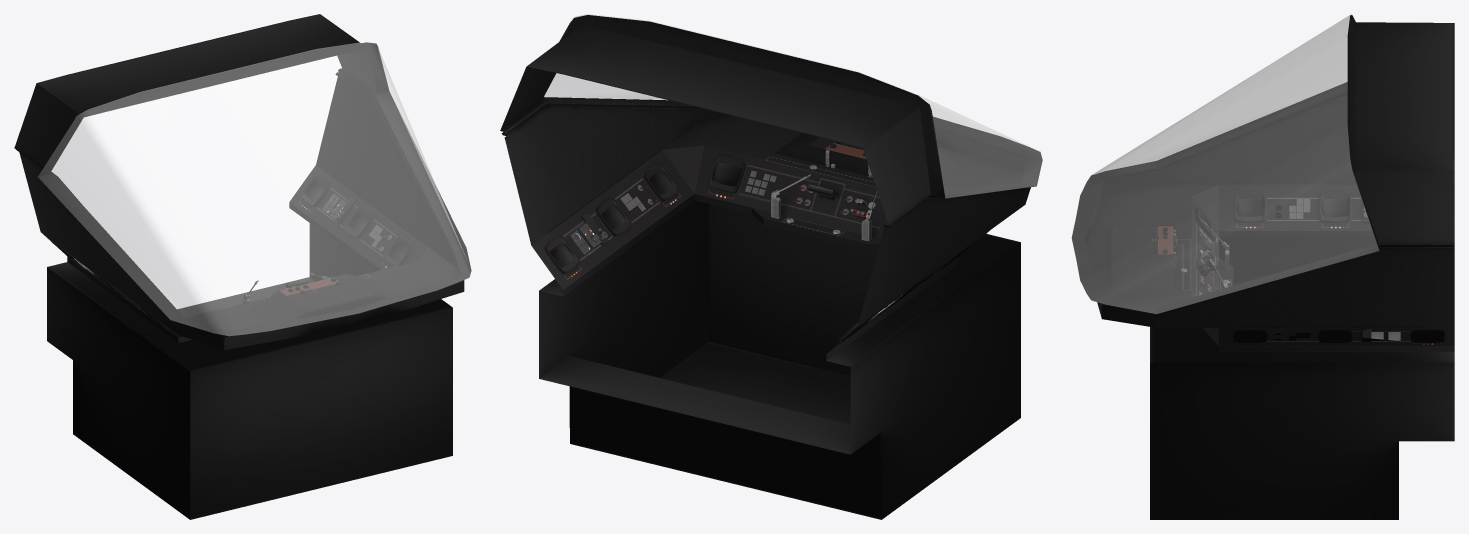
The model's file is aircraft-cockpit.glb.
The picture shows the model from 3 angles, left to right: view 1: azimuth 30°, elevation 25°; view 2: azimuth 150°, elevation 25°; view 3: azimuth 270°, elevation 25°; orthographic projection. The views are drawn at different scales.
Parts seen in each view (by area): view 1: Object_3, Object_4; view 2: Object_3, Object_4; view 3: Object_3, Object_4.
Part boxes in pixels (<box>): Object_3: <box>14,14,471,519</box>; Object_4: <box>38,42,471,335</box>; Object_3: <box>500,15,1042,519</box>; Object_4: <box>544,14,1042,198</box>; Object_3: <box>1072,15,1454,519</box>; Object_4: <box>1071,14,1378,313</box>.
Size of the model in its own units: 2.08 by 1.97 by 1.85.
2 materials, 1 textured.
